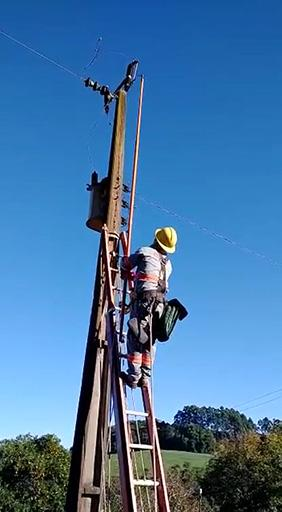Vara_Manobra: (117, 79, 145, 342)
